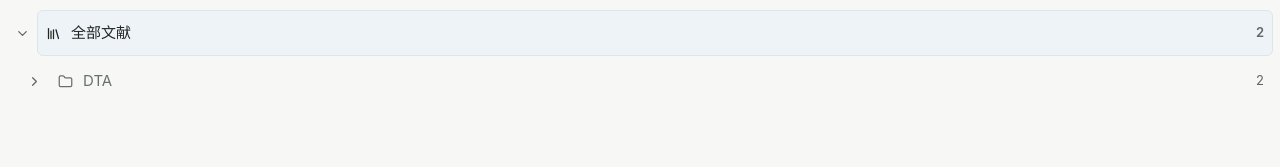
Test case: CollectionTree › 固定根可折叠全部集合，并支持方向键展开父集合
Click the button with test id "collection-toggle-all". click: coordinates (22, 33)
box: x1=7 y1=11 x2=37 y2=55
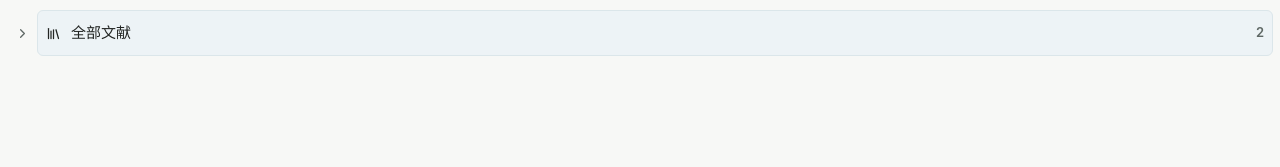
Expected: the list item "DTA" is gone
Press ArrowRight in the list item "全部文献 2", box x1=37 y1=10 x2=1273 y2=56
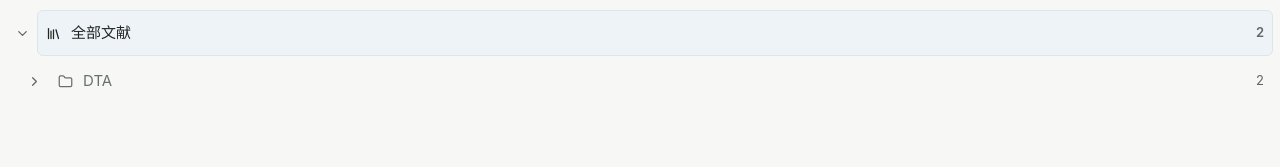
Expected: the list item "深度模型" is not shown
Press ArrowRight in the list item "DTA 2", box x1=49 y1=58 x2=1273 y2=104
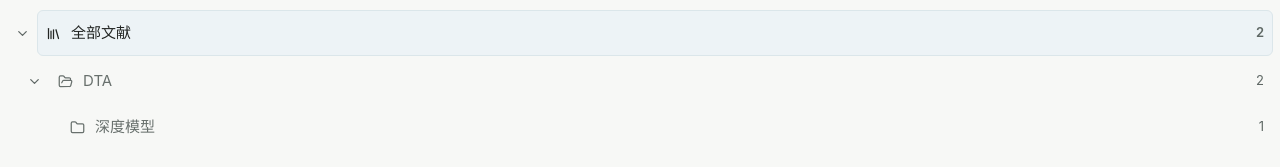
Expected: the list item "深度模型 1" is shown, x1=61 y1=104 x2=1273 y2=150
Press ArrowLeft in the list item "DTA 2", box x1=49 y1=58 x2=1273 y2=104
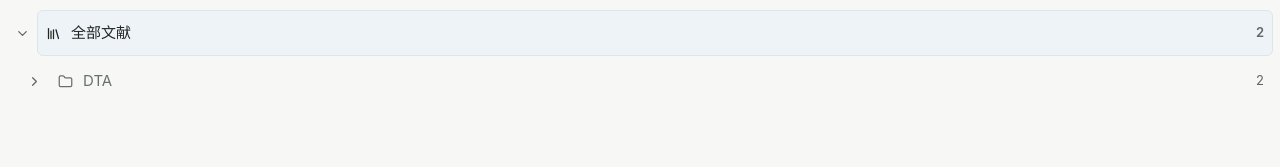
Expected: the list item "深度模型" is gone
